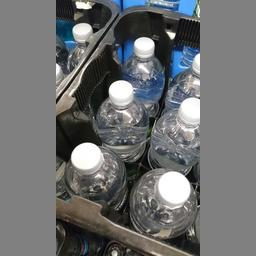water: (88, 68, 147, 162), (126, 166, 196, 240), (63, 135, 126, 208), (144, 95, 199, 178), (118, 34, 164, 116)
